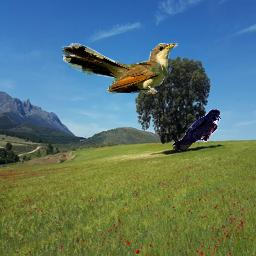Crow: (172, 109, 221, 151)
Cuckoo: (62, 43, 178, 94)
